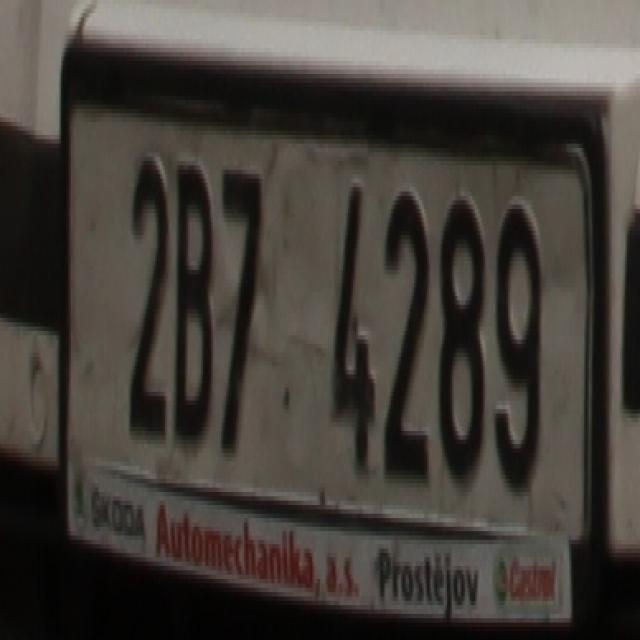2: (380, 191, 430, 479), (127, 148, 168, 440)
4: (327, 174, 378, 488)
7: (218, 161, 262, 462)
8: (437, 196, 483, 488)
9: (492, 205, 544, 492)
B: (175, 157, 216, 444)
